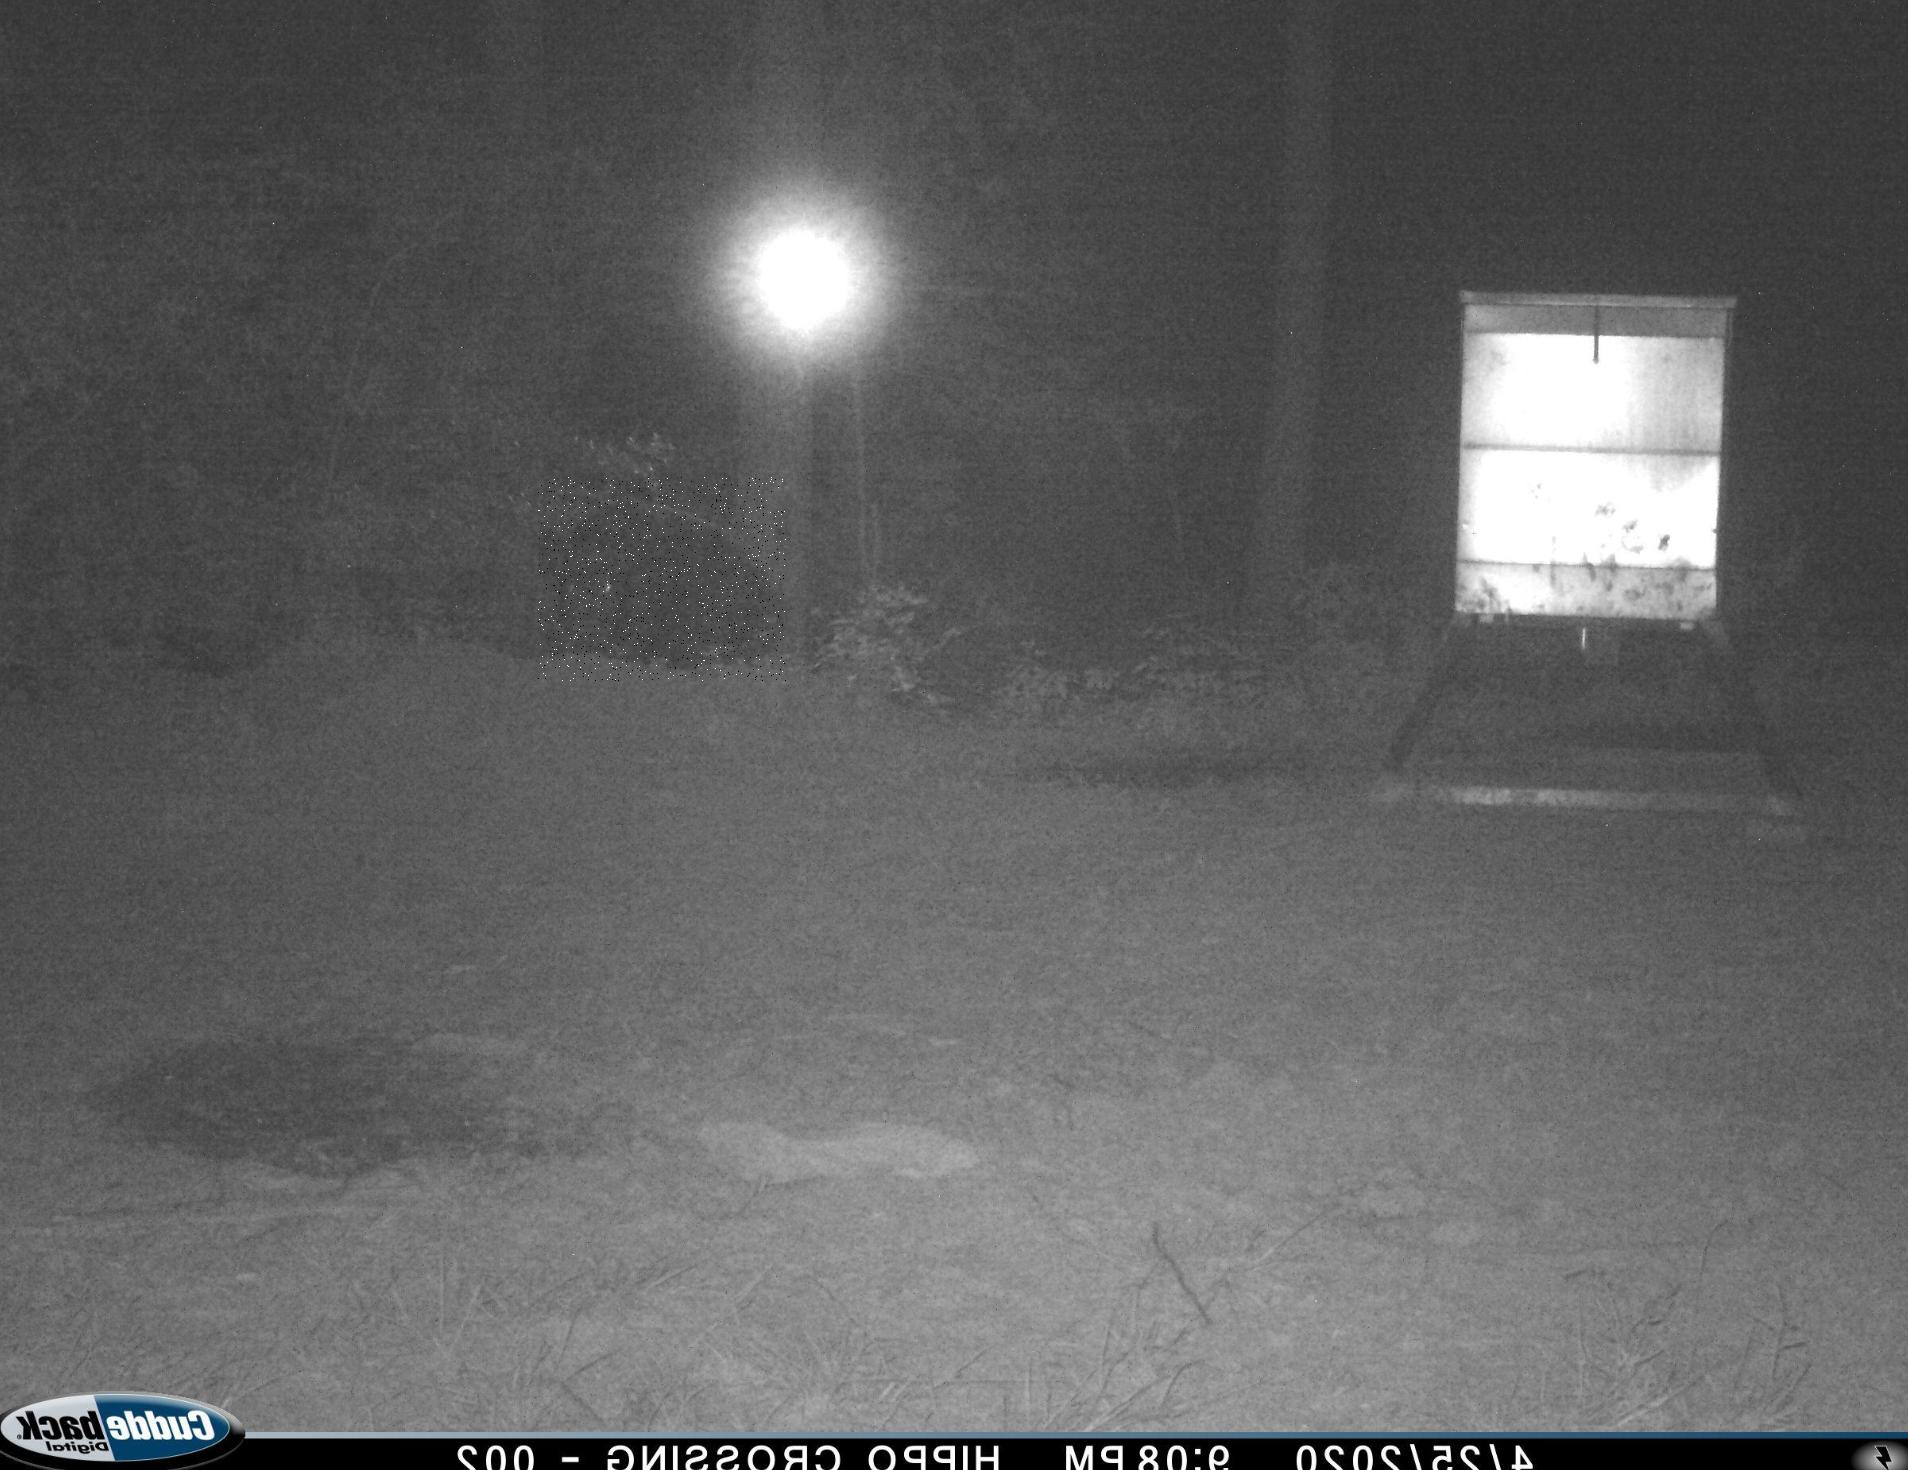Hog: (539, 477, 786, 681)
